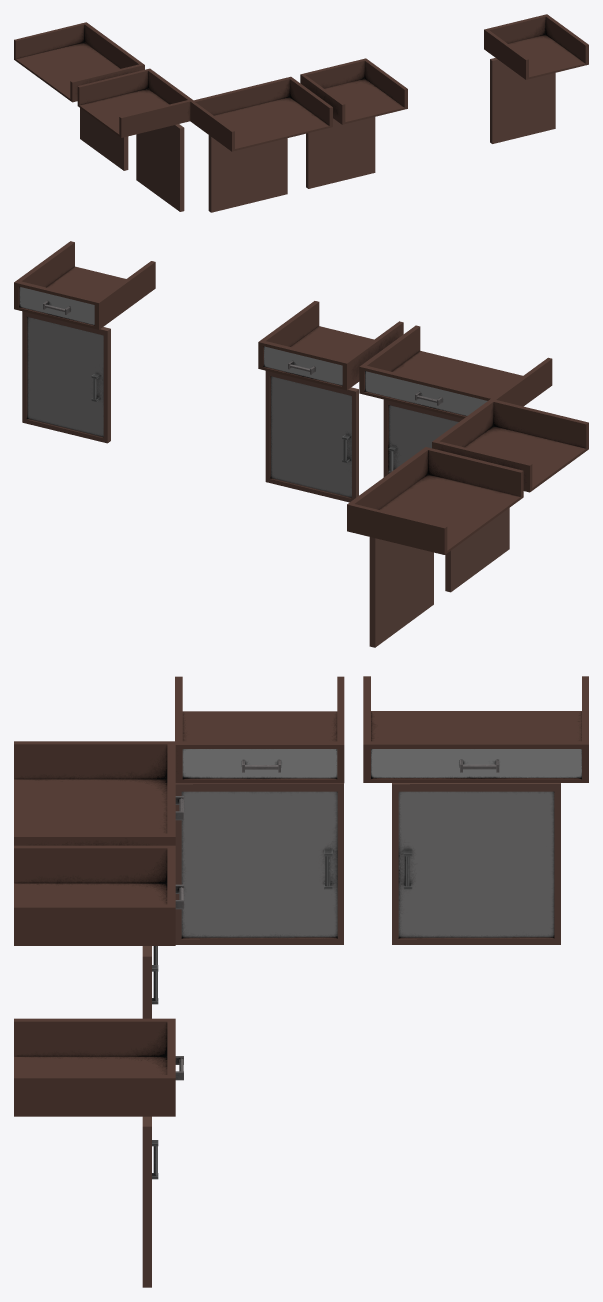
Rendered from KitchenSlabDoors.fbx.
3 views of the same model, one above another, from view 1: azimuth 30°, elevation 25°; view 2: azimuth 150°, elevation 25°; view 3: azimuth 270°, elevation 25° (orthographic). The views are drawn at different scales.
Visible parts, largest first — view 1: pCube35; view 2: pCube35; view 3: pCube35.
Part boxes in pixels (bbox=[...]): pCube35: bbox=[14, 14, 588, 212]; pCube35: bbox=[14, 241, 588, 647]; pCube35: bbox=[14, 676, 588, 1287].
Bounding box in the file's own units: 109 × 26.49 × 65.92.
Materials: 9 (9 with a texture image).
